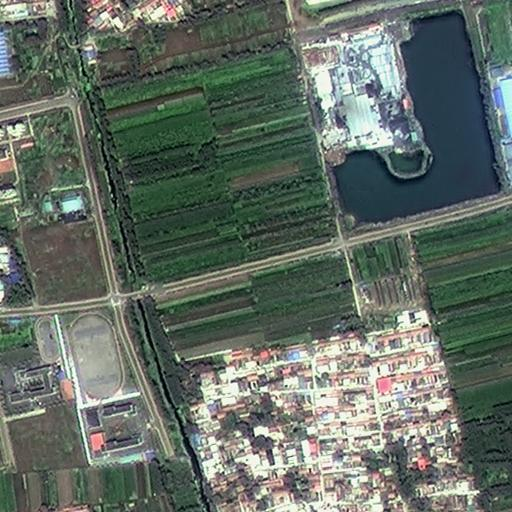school: (32, 306, 157, 464)
